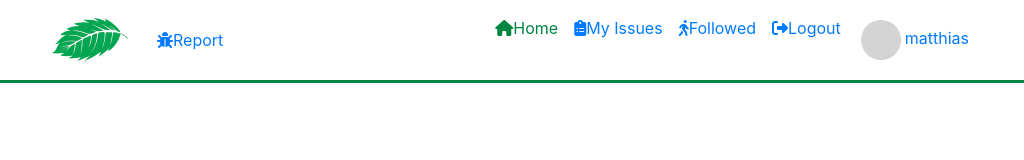
Logged out User will have login and register link
Click the link "Logout": [806, 28] box [772,18,841,38]
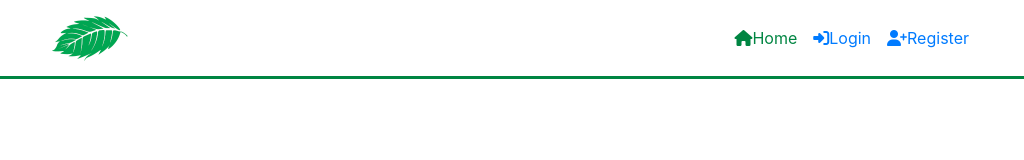
expect the link "Login" is shown: met, box [813,28,871,48]
expect the link "Register" is shown: met, box [887,28,969,48]
